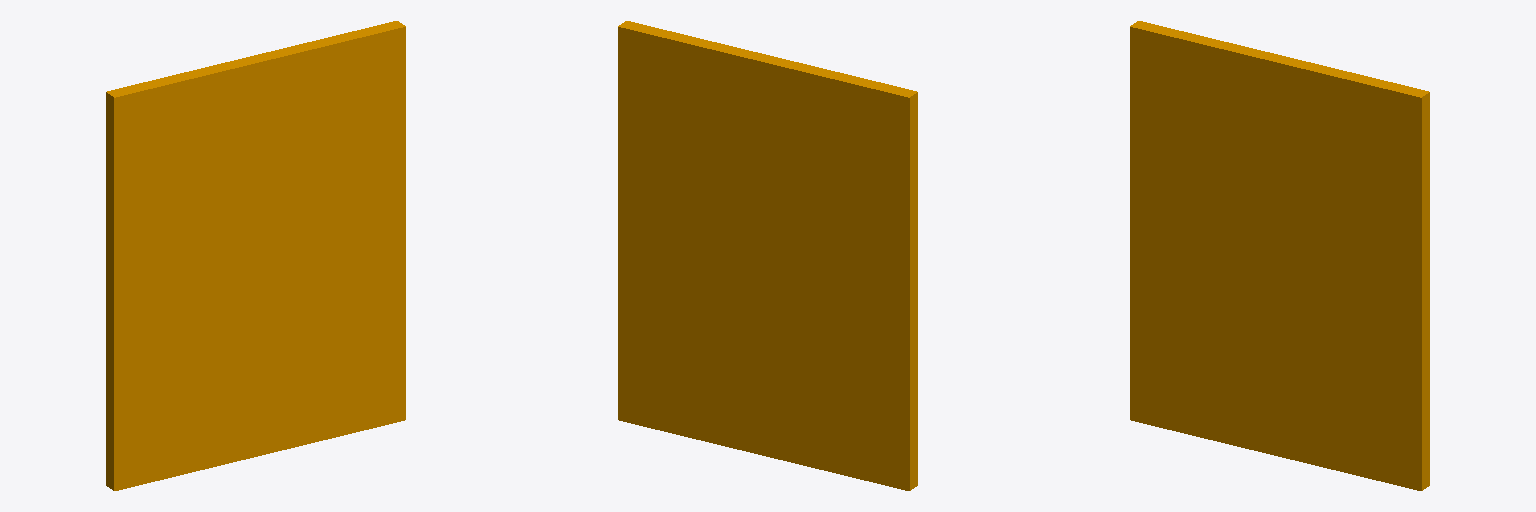
robot.urdf — tall_wall:
<?xml version="1.0"?>
<robot name="tall_wall">
  <link name="wall">
    <inertial>
        <origin rpy="0 0 0" xyz="0 0 0"/>
        <mass value="0"/>
        <inertia ixx="4.4e-5" ixy="0" ixz="0" iyy="0" iyz="0" izz="4.4e-5"/>
    </inertial>
    <visual>
      <geometry>
        <mesh filename="tall_wall.obj"/>
      </geometry>
    </visual>
    <collision>
      <geometry>
        <mesh filename="tall_wall.obj"/>
      </geometry>
      <surface>
           <bounce restitution_coefficient = "0.1"/>
      </surface>
    </collision>
  </link>
</robot>

--- Render facts (derived) ---
3 views of the same robot in one strip: view 1: azimuth 30°, elevation 25°; view 2: azimuth 150°, elevation 25°; view 3: azimuth 330°, elevation 25° (orthographic).
Model tall_wall with 1 links and 0 joints (none), rooted at wall, posed every joint at zero.
Links seen in each view (by area): view 1: wall; view 2: wall; view 3: wall.
Link boxes in pixels (x1,y1,x2,y2): wall: [106, 21, 405, 490]; wall: [618, 21, 917, 490]; wall: [1130, 21, 1429, 490].
Bounding box of the posed robot: 1 × 0.05 × 1.29 m (x, y, z).
Meshes: 1 distinct files referenced, 1 mesh visuals loaded (1 OBJ).